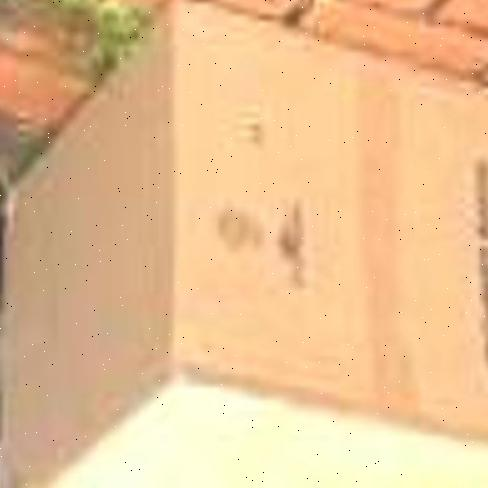Other: (6, 37, 488, 488)
